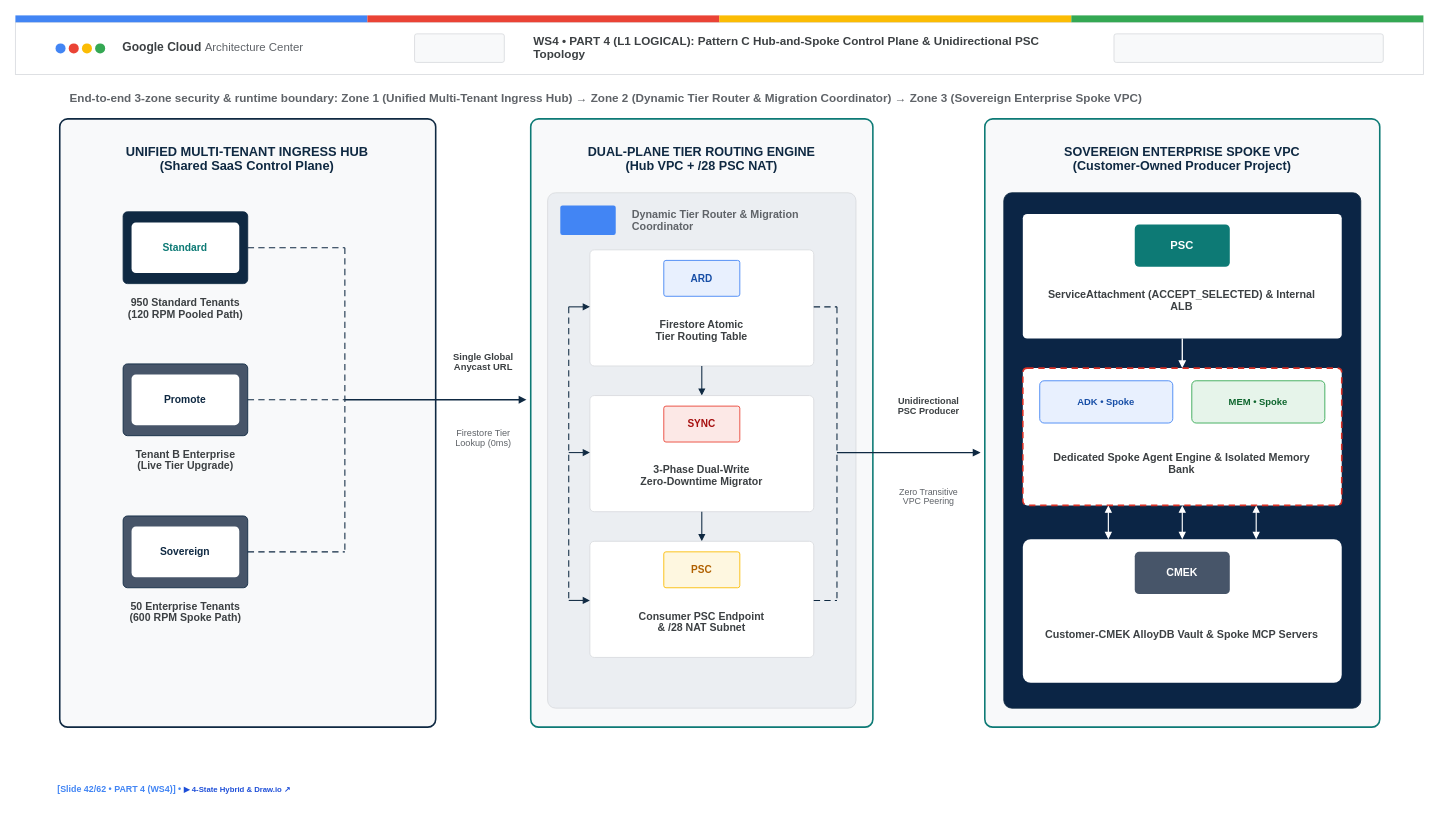
The diagram is 1439 pixels wide and 816 high, and some of its shapes have lost their labels. The centre of each missing label's shape, as x and y in pixels:
"ADK" goes at [587,220].
"ARCHITECTURE-ZONE-TOPOLOGY" goes at [1248,47].
"WS4" goes at [459,47].
